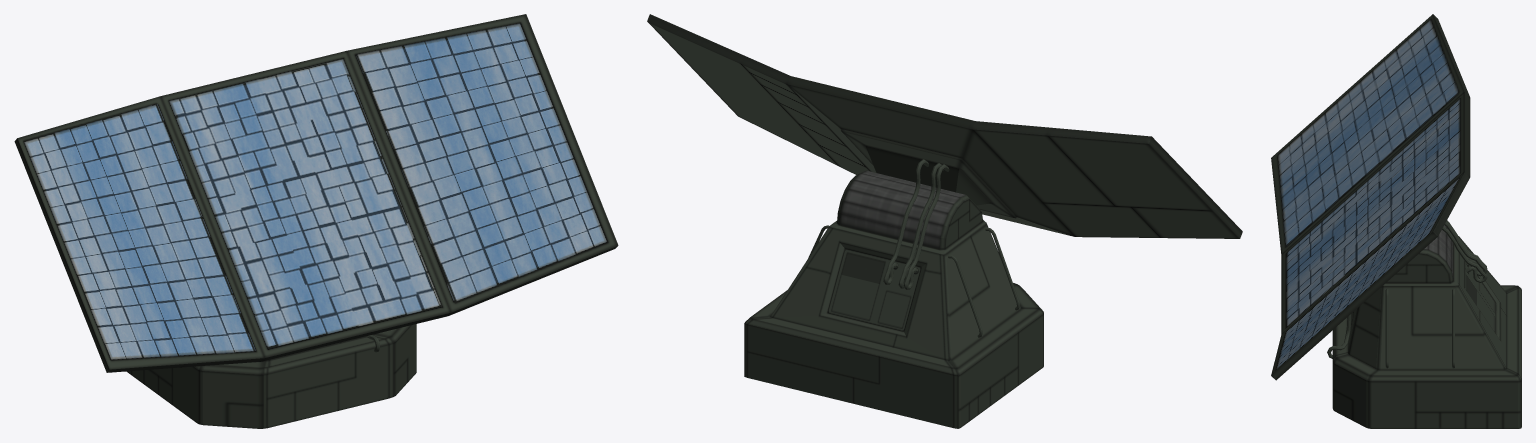
Rendered from shaeiki_2.fbx.
3 views of the same model, side by side, from view 1: azimuth 30°, elevation 25°; view 2: azimuth 150°, elevation 25°; view 3: azimuth 270°, elevation 25° (orthographic). The views are drawn at different scales.
Parts seen in each view (by area): view 1: pCube3; view 2: pCube3, pCylinder13, polySurface1; view 3: pCube3, pCylinder13, polySurface1.
Boxes of the visible parts, x1,y1,x2,y2 form: pCube3: [14, 14, 618, 428]; pCube3: [647, 14, 1242, 428]; pCylinder13: [883, 159, 949, 289]; polySurface1: [808, 225, 1019, 337]; pCube3: [1271, 14, 1521, 428]; pCylinder13: [1327, 220, 1487, 358]; polySurface1: [1385, 288, 1454, 368].
Size of the model in its own units: 62.81 by 34.83 by 30.56.
